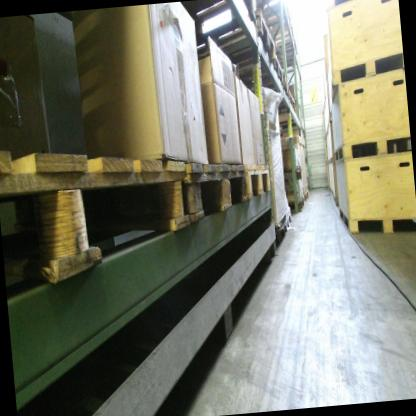pallet: (0, 127, 200, 300), (178, 142, 249, 224), (197, 5, 275, 70), (156, 0, 261, 46), (233, 55, 285, 90), (242, 156, 273, 207), (242, 71, 289, 102), (253, 0, 297, 31), (254, 83, 296, 115), (270, 26, 302, 65), (270, 213, 295, 251), (284, 166, 302, 183), (287, 198, 305, 214), (302, 188, 311, 204)
